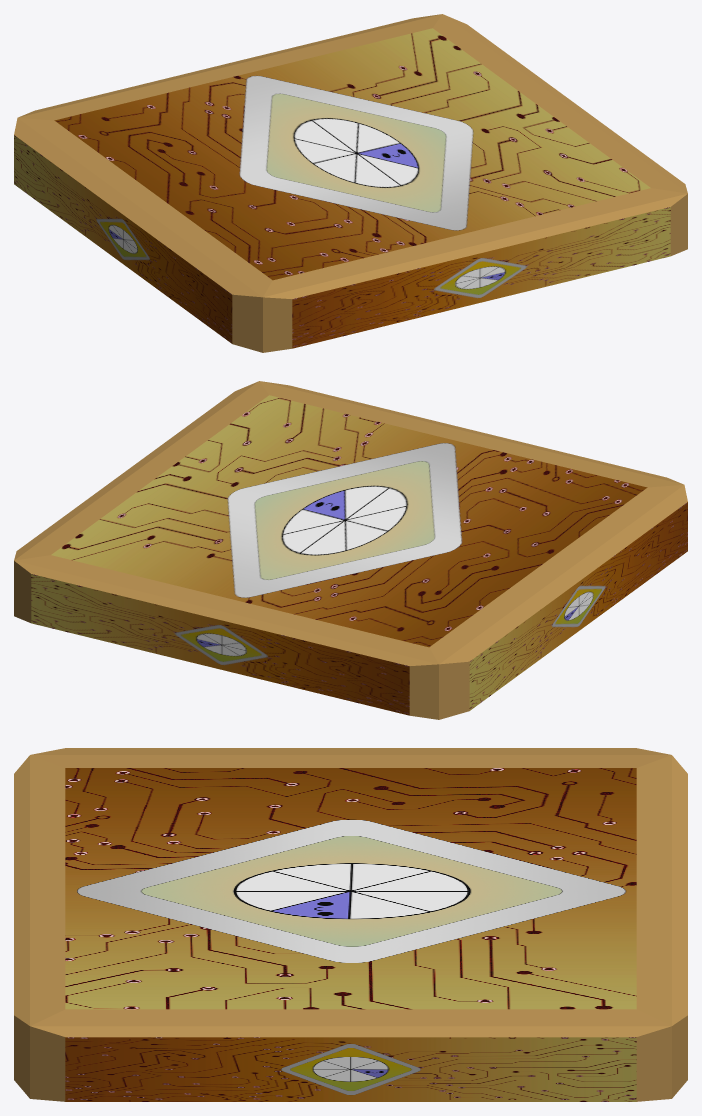
The picture shows the model from 3 angles, top to bottom: view 1: azimuth 30°, elevation 25°; view 2: azimuth 150°, elevation 25°; view 3: azimuth 270°, elevation 25°; orthographic projection. The views are drawn at different scales.
Visible parts, largest first — view 1: 1/8; view 2: 1/8; view 3: 1/8.
Part boxes in pixels (<box>): 1/8: <box>14,14,687,352</box>; 1/8: <box>14,381,687,719</box>; 1/8: <box>14,748,687,1101</box>.
Bounding box in the file's own units: 213 × 26.25 × 210.
Materials: 3 (2 with a texture image).
